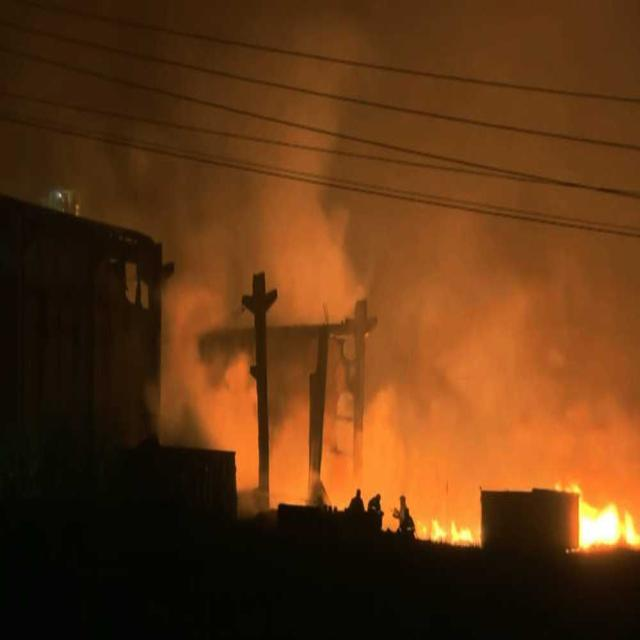fire: (582, 504, 628, 545)
smoke: (415, 264, 551, 483), (186, 130, 343, 314), (162, 359, 249, 467)
